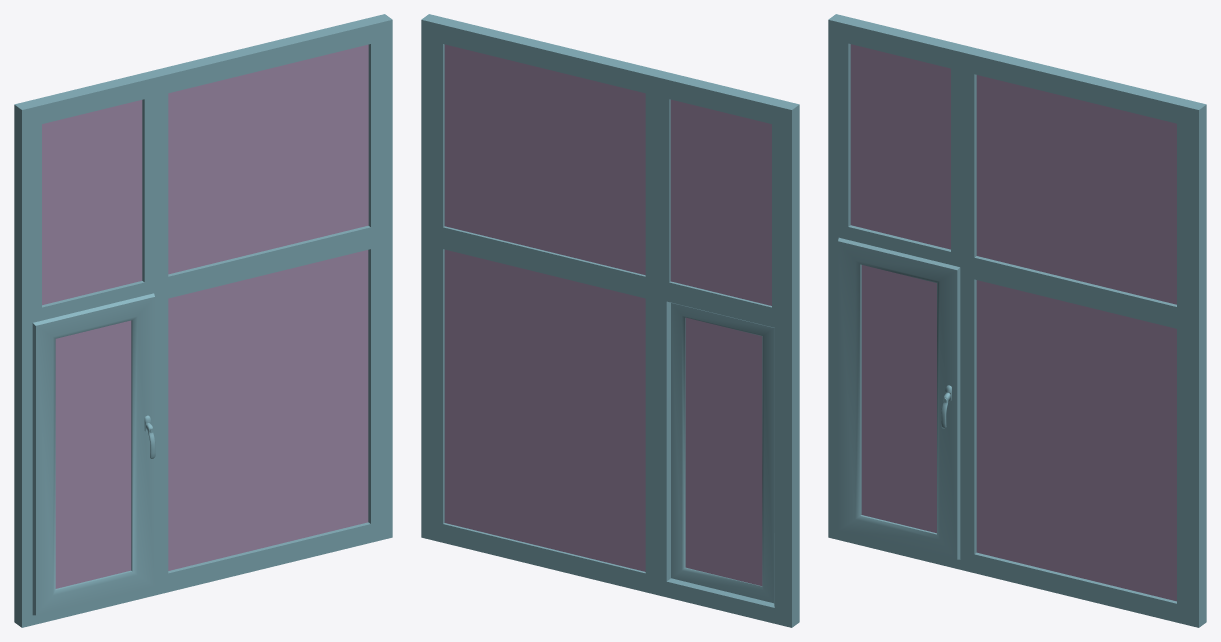
The picture shows the model from 3 angles, left to right: view 1: azimuth 30°, elevation 25°; view 2: azimuth 150°, elevation 25°; view 3: azimuth 330°, elevation 25°; orthographic projection.
Visible parts, largest first — view 1: Chuanghu_2; view 2: Chuanghu_2; view 3: Chuanghu_2.
Part boxes in pixels (x1,y1,x2,y2): Chuanghu_2: (14,14,392,627); Chuanghu_2: (421,14,799,627); Chuanghu_2: (828,14,1206,627).
Size of the model in its own units: 180 by 241 by 13.46.
